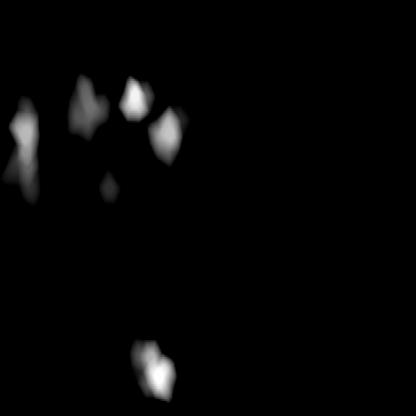fingers: (131, 337, 174, 399)
palm: (12, 77, 180, 199)
